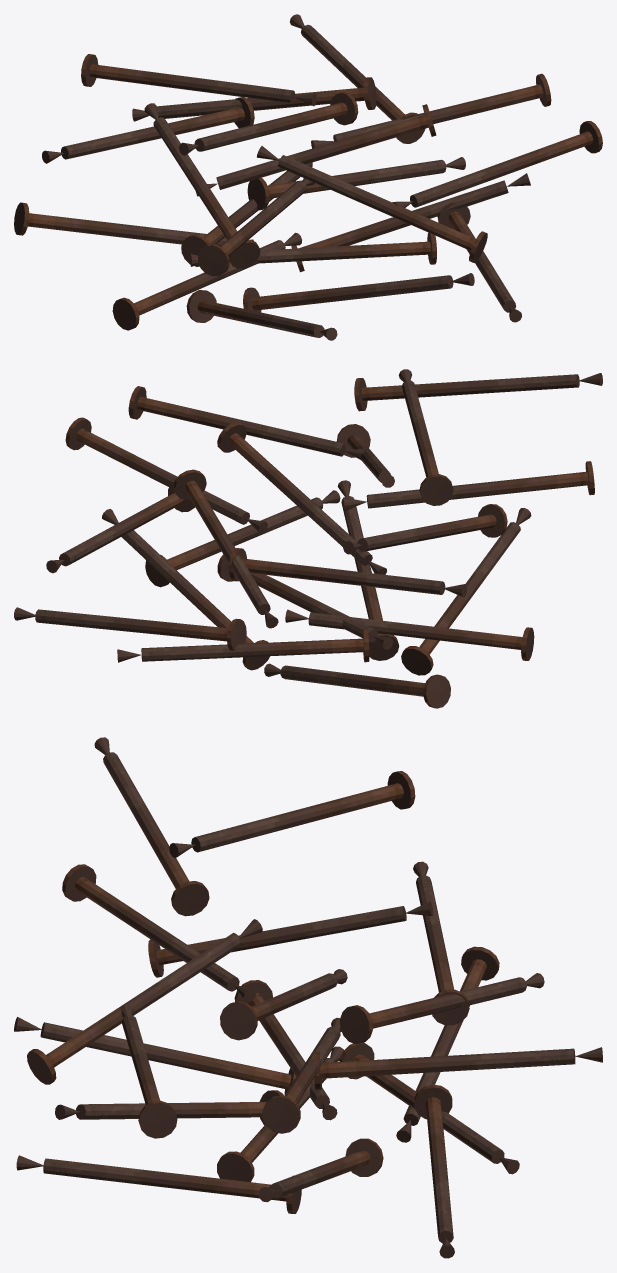
The model's file is EST-PRG-003_anim.glb.
3 views of the same model, one above another, from view 1: azimuth 30°, elevation 25°; view 2: azimuth 150°, elevation 25°; view 3: azimuth 270°, elevation 25° (orthographic). The views are drawn at different scales.
Parts seen in each view (by area): view 1: EST-PRG-003_anim19, EST-PRG-003_anim12, EST-PRG-003_anim3, EST-PRG-003_anim15, EST-PRG-003_anim13, EST-PRG-003_anim11, EST-PRG-003_anim18, EST-PRG-003_anim2, EST-PRG-003_anim4, EST-PRG-003_anim10, EST-PRG-003_anim8, EST-PRG-003_anim7 (+8 smaller); view 2: EST-PRG-003_anim5, EST-PRG-003_anim8, EST-PRG-003_anim18, EST-PRG-003_anim15, EST-PRG-003_anim11, EST-PRG-003_anim1, EST-PRG-003_anim9, EST-PRG-003_anim13, EST-PRG-003_anim2, EST-PRG-003_anim14, EST-PRG-003_anim16, EST-PRG-003_anim0 (+8 smaller); view 3: EST-PRG-003_anim17, EST-PRG-003_anim19, EST-PRG-003_anim12, EST-PRG-003_anim6, EST-PRG-003_anim0, EST-PRG-003_anim10, EST-PRG-003_anim9, EST-PRG-003_anim14, EST-PRG-003_anim18, EST-PRG-003_anim8, EST-PRG-003_anim3, EST-PRG-003_anim13 (+8 smaller).
Boxes of the visible parts, x1,y1,x2,y2 form: EST-PRG-003_anim19: (81,54,316,106); EST-PRG-003_anim12: (257,146,487,262); EST-PRG-003_anim3: (243,273,474,312); EST-PRG-003_anim15: (392,121,602,207); EST-PRG-003_anim13: (195,104,436,196); EST-PRG-003_anim11: (42,97,254,163); EST-PRG-003_anim18: (179,92,358,155); EST-PRG-003_anim2: (14,202,253,245); EST-PRG-003_anim4: (190,232,436,266); EST-PRG-003_anim10: (144,103,260,268); EST-PRG-003_anim8: (247,157,465,210); EST-PRG-003_anim7: (291,173,530,272); EST-PRG-003_anim5: (117,628,369,662); EST-PRG-003_anim8: (14,607,246,651); EST-PRG-003_anim18: (354,373,602,411); EST-PRG-003_anim15: (128,386,366,460); EST-PRG-003_anim11: (229,548,466,597); EST-PRG-003_anim1: (285,609,534,660); EST-PRG-003_anim9: (343,461,594,510); EST-PRG-003_anim13: (217,422,386,574); EST-PRG-003_anim2: (264,663,450,708); EST-PRG-003_anim14: (173,469,278,628); EST-PRG-003_anim16: (65,417,267,533); EST-PRG-003_anim0: (401,508,531,675); EST-PRG-003_anim17: (313,1047,602,1090); EST-PRG-003_anim19: (169,771,415,858); EST-PRG-003_anim12: (27,919,262,1084); EST-PRG-003_anim6: (16,1155,301,1213); EST-PRG-003_anim0: (14,1017,296,1094); EST-PRG-003_anim10: (148,901,433,977); EST-PRG-003_anim9: (62,864,256,1002); EST-PRG-003_anim14: (340,973,544,1044); EST-PRG-003_anim18: (94,737,209,916); EST-PRG-003_anim8: (414,1084,454,1258); EST-PRG-003_anim3: (55,1090,283,1125); EST-PRG-003_anim13: (220,969,347,1040).
Size of the model in its own units: 0.1442 by 0.0812 by 0.14.
1 material, 1 textured.
